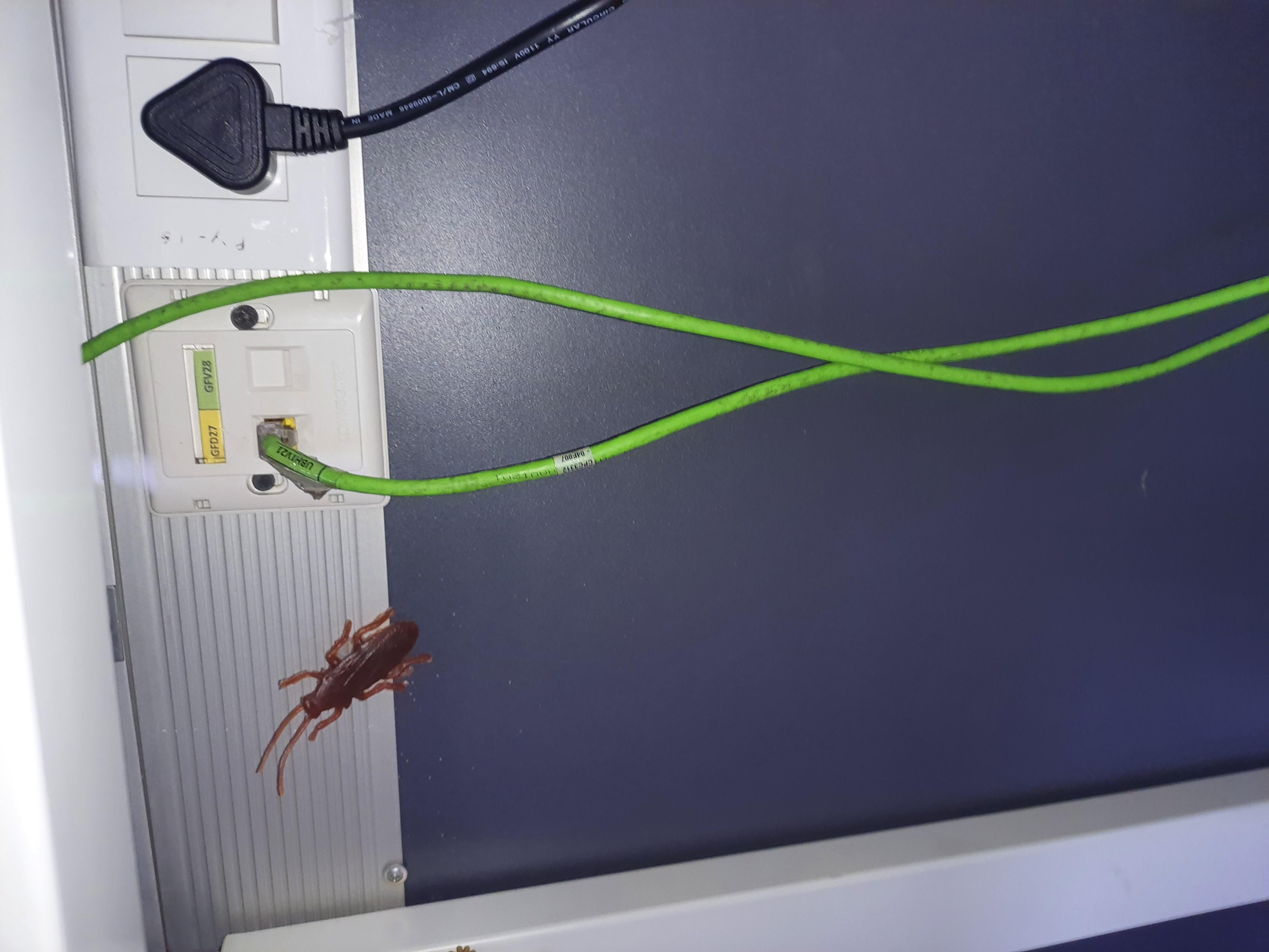cockroach: (198, 180, 483, 336)
